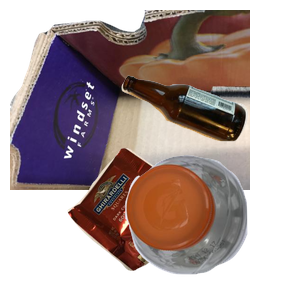cardboard: (10, 10, 250, 190)
glass: (119, 73, 300, 207)
plastic: (123, 152, 300, 300)
trash: (65, 145, 242, 300)
